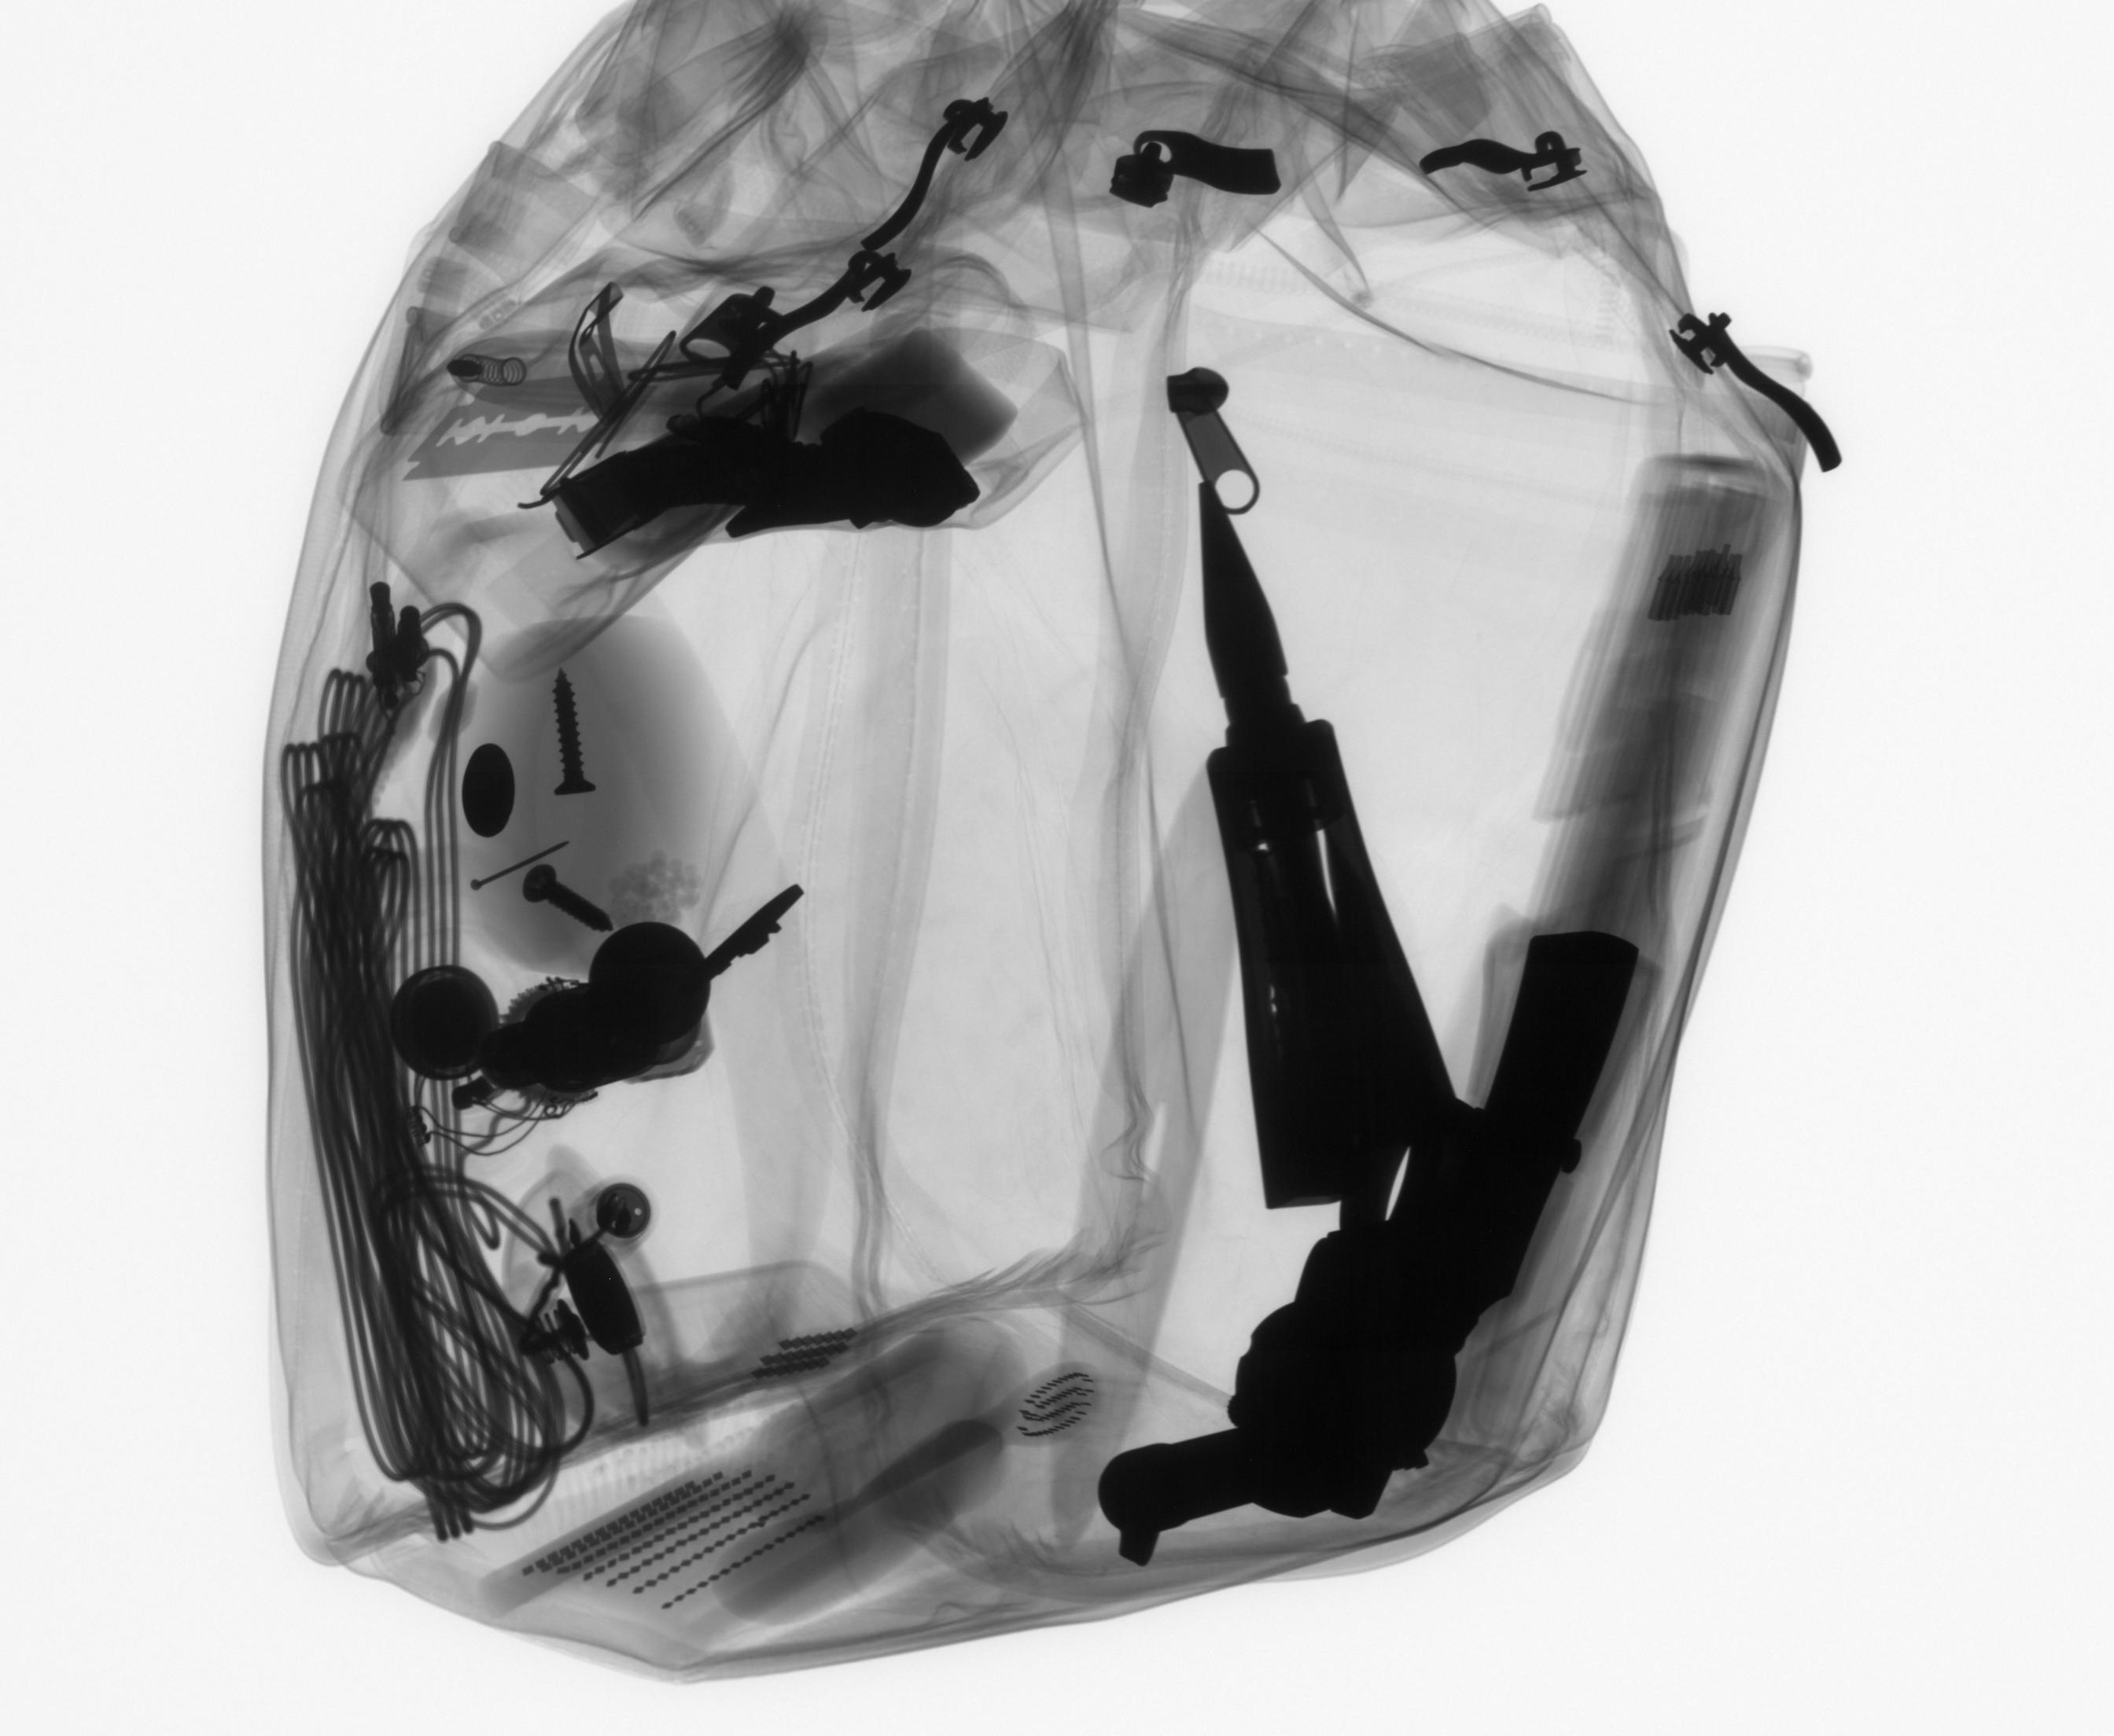Handgun: (1087, 932, 1652, 1576)
RazorBlade: (406, 377, 615, 483)
